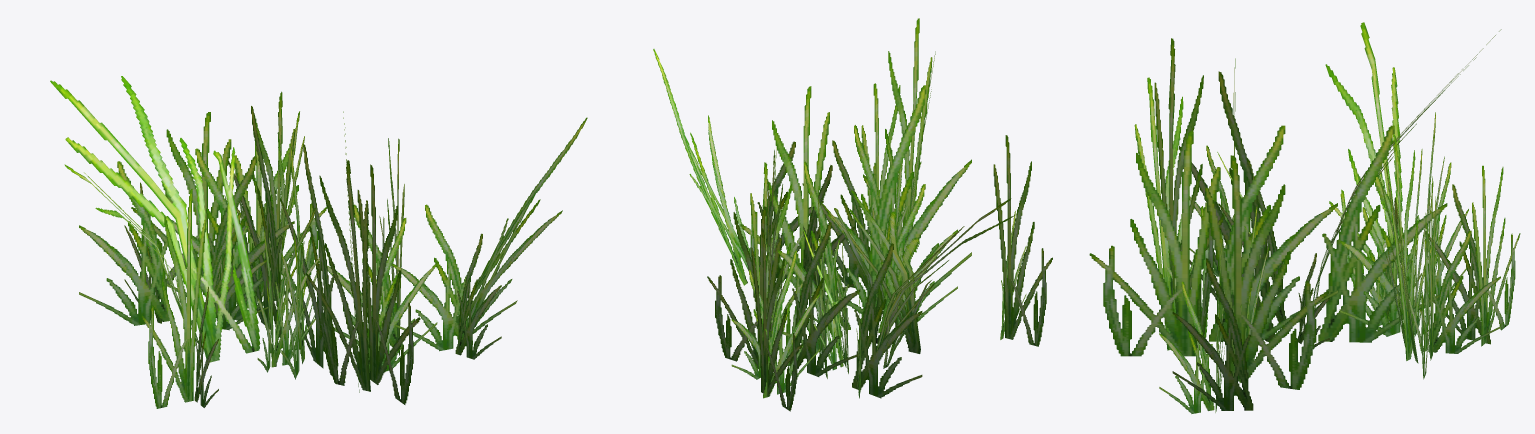
The model's file is nml-bd034.glb.
3 renders of one model, left to right at view 1: azimuth 30°, elevation 25°; view 2: azimuth 150°, elevation 25°; view 3: azimuth 270°, elevation 25°, orthographic. The views are drawn at different scales.
Visible parts, largest first — view 1: geom_node_0; view 2: geom_node_0; view 3: geom_node_0.
Part boxes in pixels (x1,y1,x2,y2): geom_node_0: (50, 76, 587, 408); geom_node_0: (653, 18, 1052, 411); geom_node_0: (1089, 22, 1520, 413).
Size of the model in its own units: 3.41 by 2.07 by 2.66.
1 material, 1 textured.
